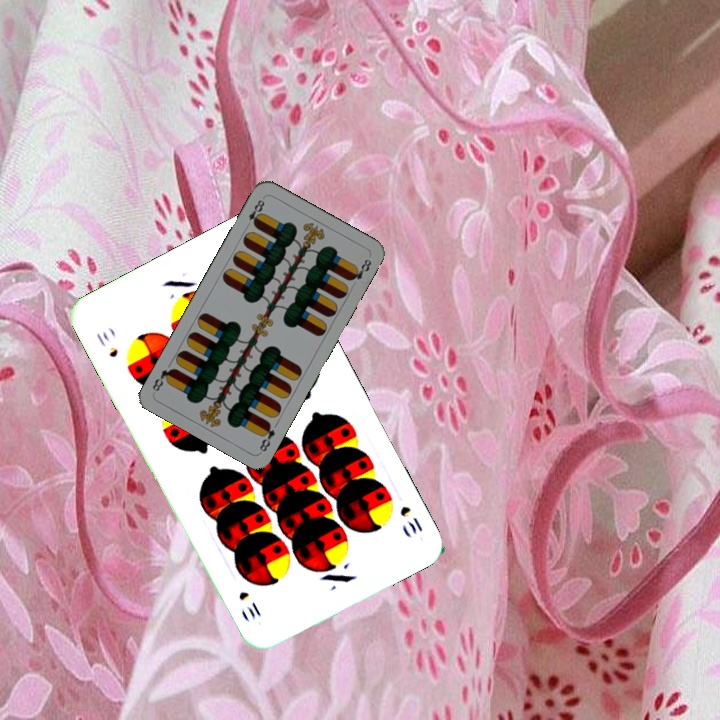E8: (241, 194, 267, 230), (255, 418, 281, 454)
S10: (396, 502, 426, 537), (92, 327, 121, 361)
